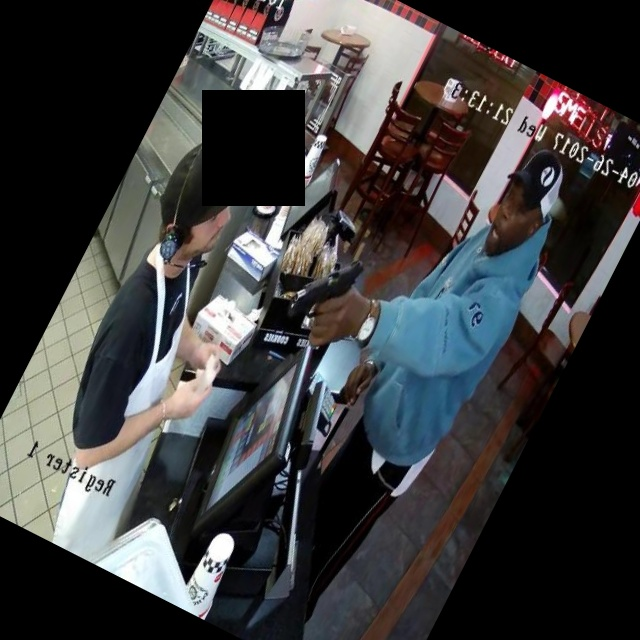gun: (264, 228, 391, 360)
